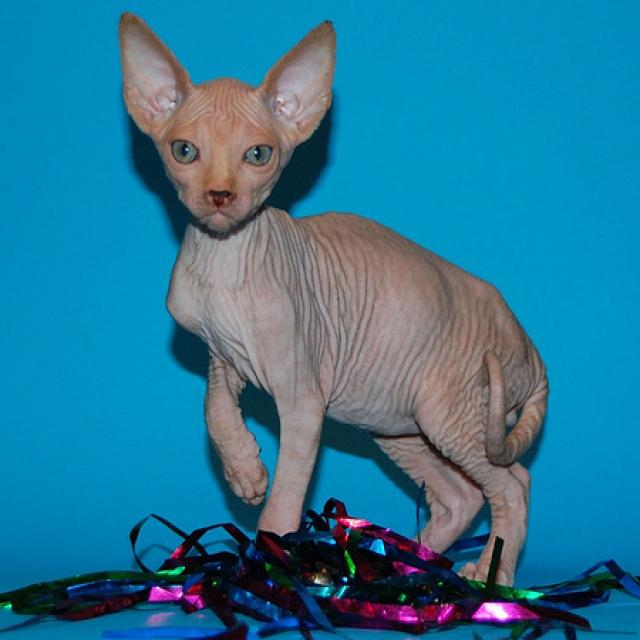Sphynx: (116, 9, 552, 596)
